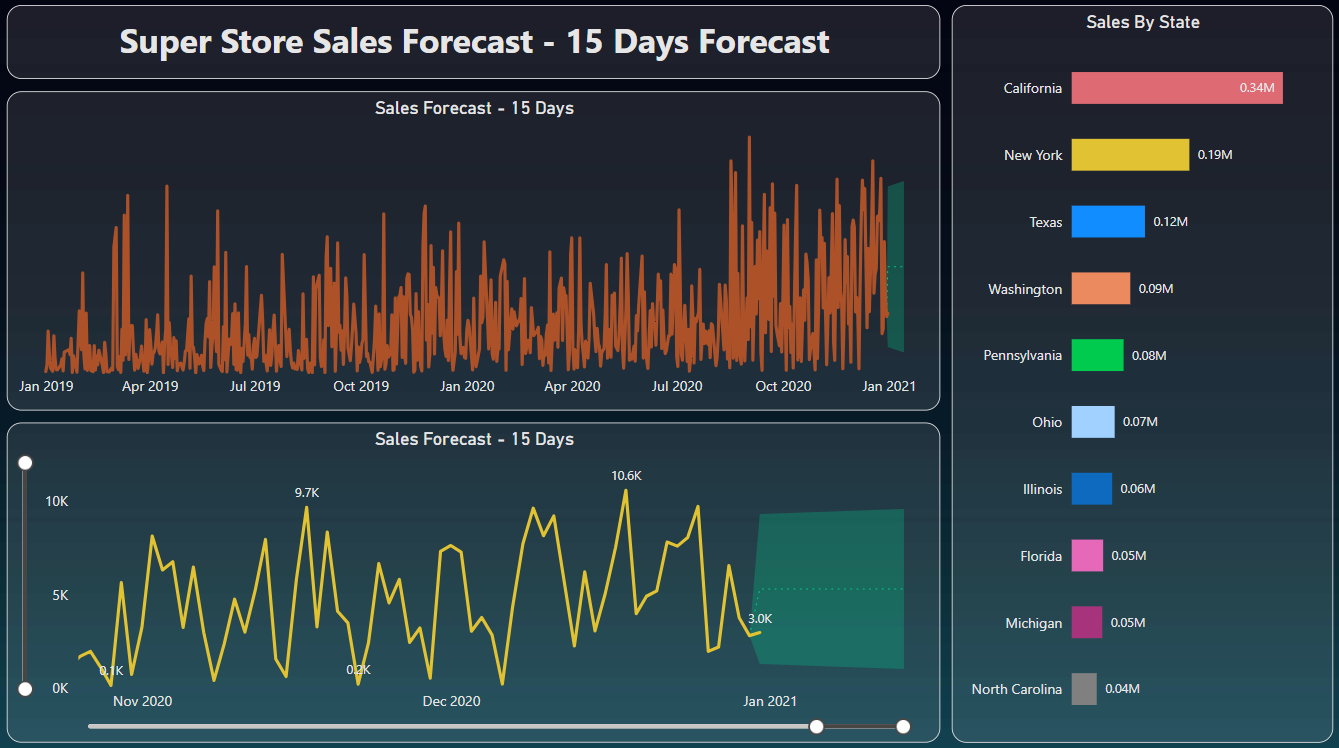

What the dashboard file says about the page in this screenshot:
{"tool":"powerbi","page":{"name":"Sales Forecasting","canvas":[1280,720],"ordinal":1},"visuals":[{"type":"lineChart","title":"Sales Forecast - 15 Days","fields":{"Y":["Sum(SuperStore_Sales_Dataset.Sales)"],"Category":["SuperStore_Sales_Dataset.Order Date"]},"box":[8.3,91.6,889,304],"z":0},{"type":"lineChart","title":"Sales Forecast - 15 Days","fields":{"Y":["Sum(SuperStore_Sales_Dataset.Sales)"],"Category":["SuperStore_Sales_Dataset.Order Date"]},"box":[8.3,407,889,304.7],"z":1000},{"type":"textbox","box":[8.3,9.5,889,70.2],"z":1001},{"type":"barChart","title":"Sales By State","fields":{"Category":["SuperStore_Sales_Dataset.State"],"Y":["Sum(SuperStore_Sales_Dataset.Sales)"]},"box":[908,9.5,363,702.1],"z":1002}]}

Visuals, with their boxes in screenshot pixels (x1, y1, x2, y2), scaled from the page's 1280x720 canvas onto the 1339x748 screenshot:
"Sales Forecast - 15 Days" lineChart: rect(9, 95, 939, 411)
"Sales Forecast - 15 Days" lineChart: rect(9, 423, 939, 739)
textbox: rect(9, 10, 939, 83)
"Sales By State" barChart: rect(950, 10, 1330, 739)
